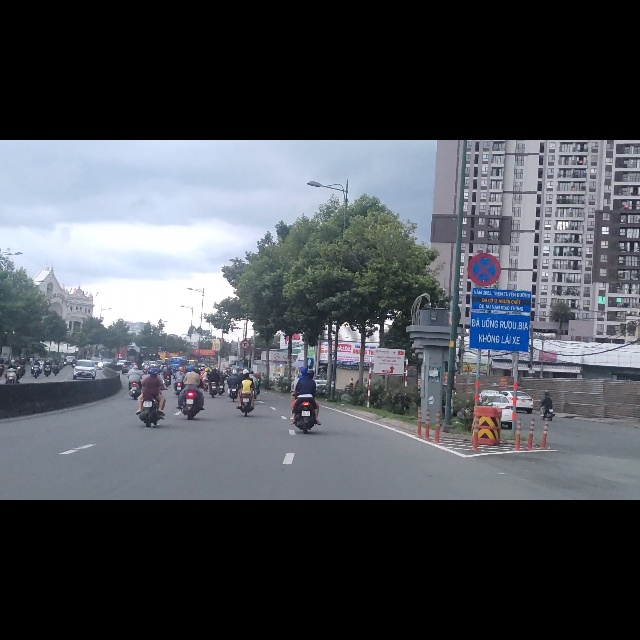bien_cam: (467, 200, 500, 261), (241, 356, 250, 372), (307, 388, 314, 401)
